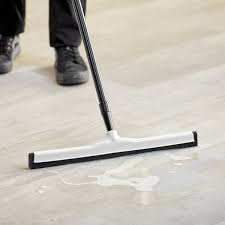Wet-floor: (46, 167, 214, 217)
